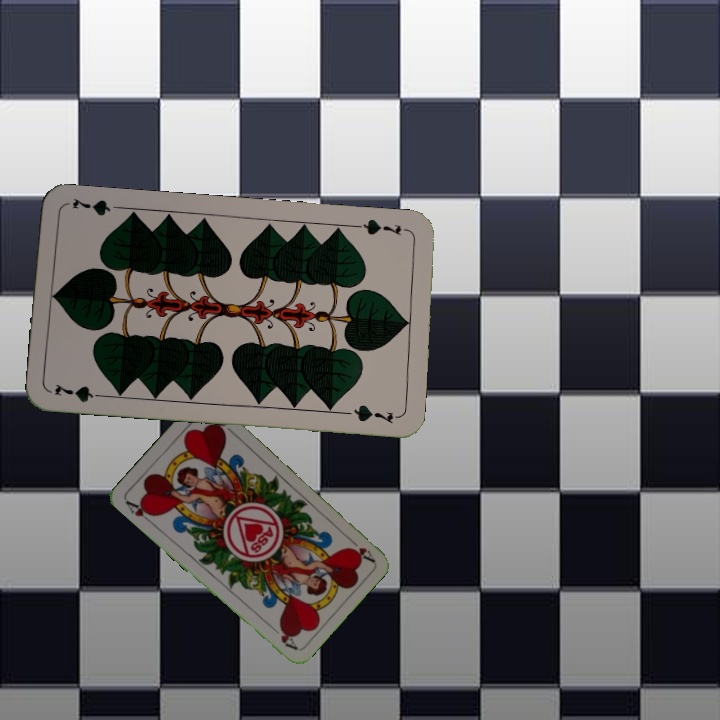G7: (51, 380, 109, 405), (353, 215, 412, 238)
HA: (344, 532, 377, 565), (122, 496, 157, 527)
